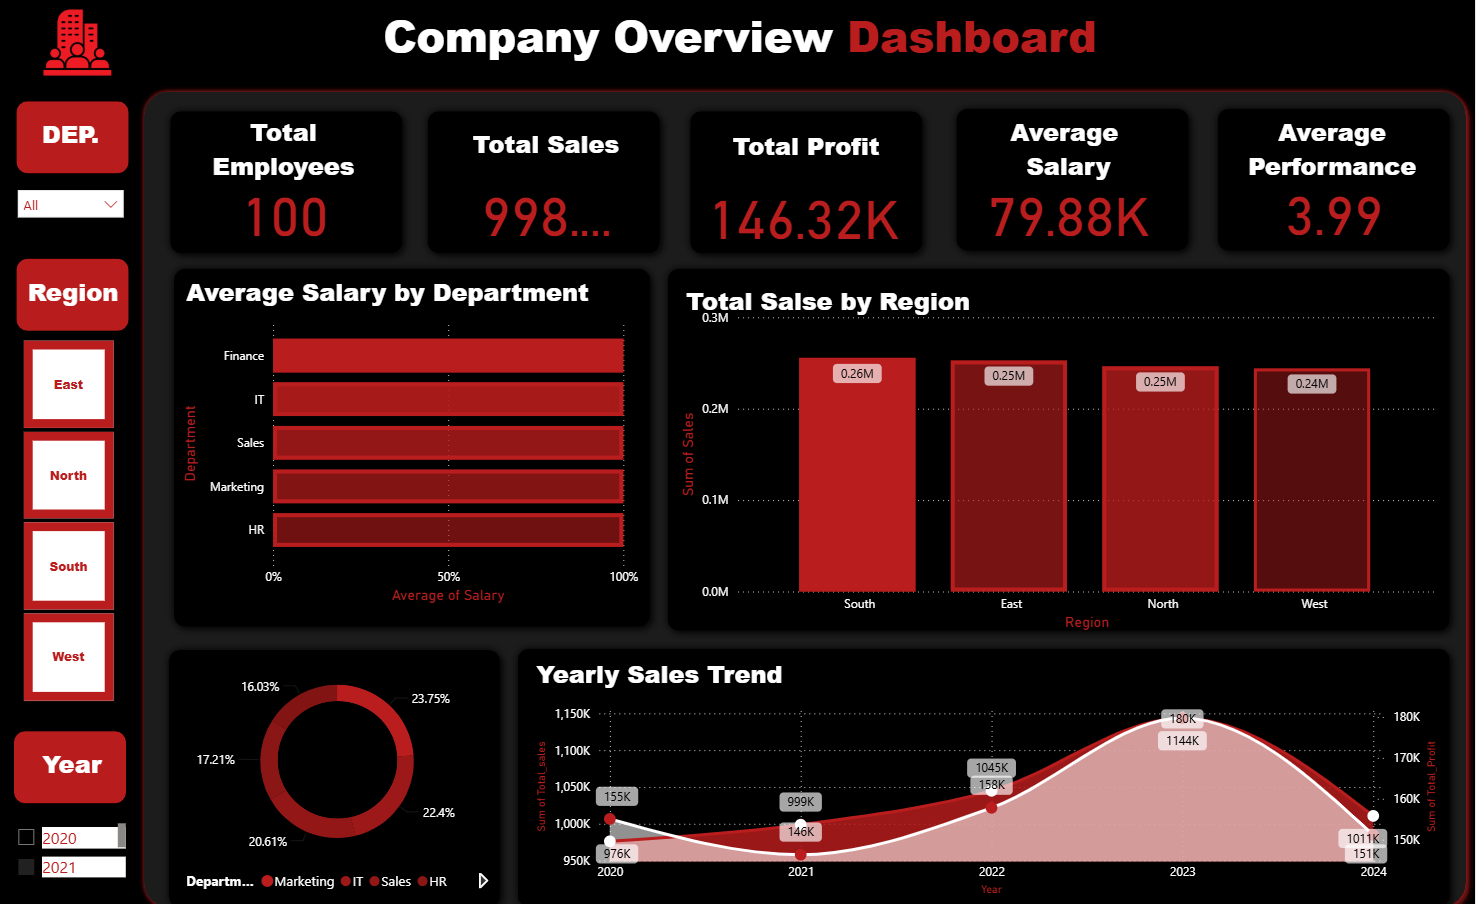

The page's visual inventory and layout, read from the dashboard file:
{"tool":"powerbi","page":{"name":"Page 1","canvas":[1480,920],"ordinal":0},"visuals":[{"type":"shape","box":[140,86,1340,834],"z":0},{"type":"shape","box":[12,254,130,90],"z":0,"group":"g2"},{"type":"shape","box":[166,106,250,160],"z":1000},{"type":"group","id":"g1","title":"Group 1","box":[2,274,140,438],"z":1000,"group":"g2"},{"type":"shape","box":[424,106,250,160],"z":2000},{"type":"shape","box":[686,106,250,160],"z":3000},{"type":"shape","box":[1214,104,250,160],"z":4000},{"type":"shape","box":[952,104,250,160],"z":5000},{"type":"shape","box":[664,264,800,380],"z":6000},{"type":"shape","box":[170,264,494,376],"z":7000},{"type":"shape","box":[165.6,644.4,348.9,275.6],"z":8000},{"type":"shape","box":[514,644,950,276],"z":9000},{"type":"card","fields":{"Values":["CountNonNull(employees.EmployeeID)"]},"box":[240,176,100,76],"z":10000},{"type":"card","fields":{"Values":["Avg(employees.Salary)"]},"box":[982,182,182,64],"z":11000},{"type":"card","fields":{"Values":["Sum(sales.Profit)"]},"box":[702,182,212,70],"z":12000},{"type":"card","fields":{"Values":["Sum(sales.Sales)"]},"box":[474,172,156,84],"z":13000},{"type":"card","fields":{"Values":["Avg(employees.PerformanceScore)"]},"box":[1282,176,114,74],"z":14000},{"type":"hundredPercentStackedBarChart","fields":{"Category":["employees.Department"],"Y":["Avg(employees.Salary)"]},"box":[182,312,466,300],"z":15000},{"type":"clusteredColumnChart","fields":{"Category":["sales.Region"],"Y":["Sum(sales.Sales)"]},"box":[680,308,766,332],"z":16000},{"type":"donutChart","fields":{"Category":["dept_profit.Department"],"Y":["Sum(dept_profit.Profit_share)"]},"box":[186,656,312,248],"z":17000},{"type":"lineChart","fields":{"Category":["sales_trend.Year"],"Y":["Sum(sales_trend.Total_sales)"],"Y2":["Sum(sales_trend.Total_Profit)"]},"box":[536,702,912,202],"z":18000},{"type":"slicer","fields":{"Values":["sales.Category"]},"box":[12,184,126,68],"z":19000},{"type":"slicer","fields":{"Values":["sales.Region"]},"box":[2,338,140,374],"z":19000,"group":"g1"},{"type":"slicer","fields":{"Values":["sales.Date.Variation.Date Hierarchy.Year"]},"box":[10,822,126,70],"z":20000},{"type":"shape","title":"CIRCLE","box":[282.2,705.6,120,117.8],"z":21000},{"type":"textbox","box":[178,114,222,86],"z":22000},{"type":"textbox","box":[700,128,222,58],"z":23000},{"type":"textbox","box":[962,114,222,86],"z":24000},{"type":"textbox","box":[1226,114,222,86],"z":25000},{"type":"textbox","box":[440,126,222,58],"z":26000},{"type":"textbox","box":[186,274,414,60],"z":27000},{"type":"textbox","box":[686,282,414,60],"z":28000},{"type":"textbox","box":[536,656,414,60],"z":29000},{"type":"textbox","box":[14,274,126,50],"z":29003,"group":"g1"},{"type":"shape","box":[12,96,130,90],"z":30000},{"type":"textbox","box":[12,116,126,50],"z":31000},{"type":"group","id":"g2","title":"Group 2","box":[2,254,140,458],"z":32000},{"type":"shape","box":[10,726,130,90],"z":33000},{"type":"textbox","box":[14,746,126,50],"z":34000},{"type":"textbox","box":[10,4,1470,82],"z":35000},{"type":"image","box":[10,4,144,86],"z":36000}]}

Visuals, with their boxes in screenshot pixels (x1, y1, x2, y2), scaled from the page's 1480x920 canvas onto the 1476x904 screenshot:
shape: {"left": 140, "top": 85, "right": 1475, "bottom": 903}
shape: {"left": 12, "top": 250, "right": 142, "bottom": 338}
shape: {"left": 166, "top": 104, "right": 415, "bottom": 261}
"Group 1" group: {"left": 2, "top": 269, "right": 142, "bottom": 700}
shape: {"left": 423, "top": 104, "right": 672, "bottom": 261}
shape: {"left": 684, "top": 104, "right": 933, "bottom": 261}
shape: {"left": 1211, "top": 102, "right": 1460, "bottom": 259}
shape: {"left": 949, "top": 102, "right": 1199, "bottom": 259}
shape: {"left": 662, "top": 259, "right": 1460, "bottom": 633}
shape: {"left": 170, "top": 259, "right": 662, "bottom": 629}
shape: {"left": 165, "top": 633, "right": 513, "bottom": 903}
shape: {"left": 513, "top": 633, "right": 1460, "bottom": 903}
card - CountNonNull(employees.EmployeeID): {"left": 239, "top": 173, "right": 339, "bottom": 248}
card - Avg(employees.Salary): {"left": 979, "top": 179, "right": 1161, "bottom": 242}
card - Sum(sales.Profit): {"left": 700, "top": 179, "right": 912, "bottom": 248}
card - Sum(sales.Sales): {"left": 473, "top": 169, "right": 628, "bottom": 252}
card - Avg(employees.PerformanceScore): {"left": 1279, "top": 173, "right": 1392, "bottom": 246}
hundredPercentStackedBarChart - employees.Department x Avg(employees.Salary): {"left": 182, "top": 307, "right": 646, "bottom": 601}
clusteredColumnChart - sales.Region x Sum(sales.Sales): {"left": 678, "top": 303, "right": 1442, "bottom": 629}
donutChart - dept_profit.Department x Sum(dept_profit.Profit_share): {"left": 185, "top": 645, "right": 497, "bottom": 888}
lineChart - sales_trend.Year x Sum(sales_trend.Total_sales): {"left": 535, "top": 690, "right": 1444, "bottom": 888}
slicer - sales.Category: {"left": 12, "top": 181, "right": 138, "bottom": 248}
slicer - sales.Region: {"left": 2, "top": 332, "right": 142, "bottom": 700}
slicer - sales.Date.Variation.Date Hierarchy.Year: {"left": 10, "top": 808, "right": 136, "bottom": 876}
"CIRCLE" shape: {"left": 281, "top": 693, "right": 401, "bottom": 809}
textbox: {"left": 178, "top": 112, "right": 399, "bottom": 197}
textbox: {"left": 698, "top": 126, "right": 920, "bottom": 183}
textbox: {"left": 959, "top": 112, "right": 1181, "bottom": 197}
textbox: {"left": 1223, "top": 112, "right": 1444, "bottom": 197}
textbox: {"left": 439, "top": 124, "right": 660, "bottom": 181}
textbox: {"left": 185, "top": 269, "right": 598, "bottom": 328}
textbox: {"left": 684, "top": 277, "right": 1097, "bottom": 336}
textbox: {"left": 535, "top": 645, "right": 947, "bottom": 704}
textbox: {"left": 14, "top": 269, "right": 140, "bottom": 318}
shape: {"left": 12, "top": 94, "right": 142, "bottom": 183}
textbox: {"left": 12, "top": 114, "right": 138, "bottom": 163}
"Group 2" group: {"left": 2, "top": 250, "right": 142, "bottom": 700}
shape: {"left": 10, "top": 713, "right": 140, "bottom": 802}
textbox: {"left": 14, "top": 733, "right": 140, "bottom": 782}
textbox: {"left": 10, "top": 4, "right": 1475, "bottom": 85}
image: {"left": 10, "top": 4, "right": 154, "bottom": 88}
